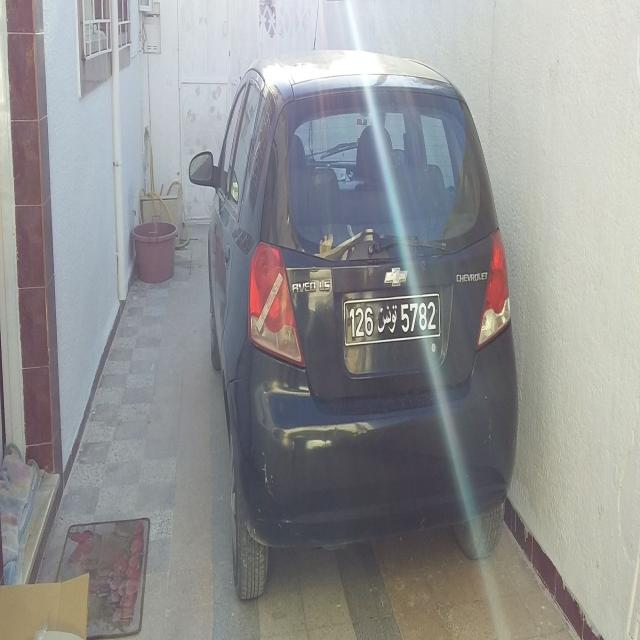LP: (342, 295, 443, 343)
